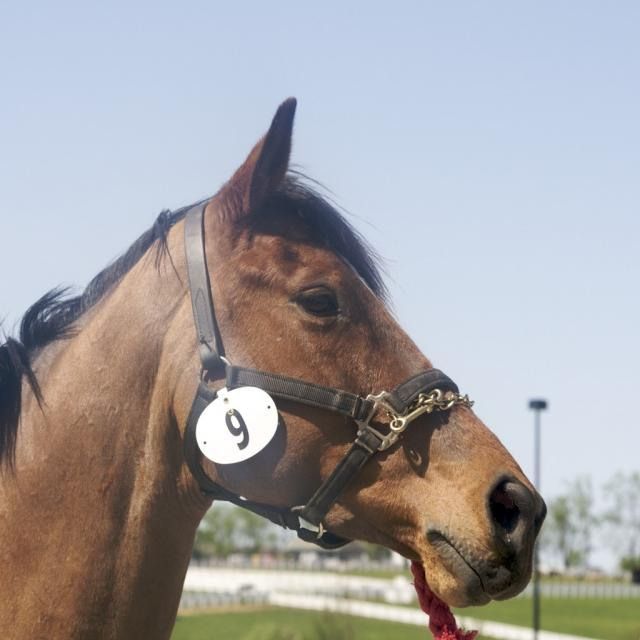Horse: (0, 92, 551, 640)
